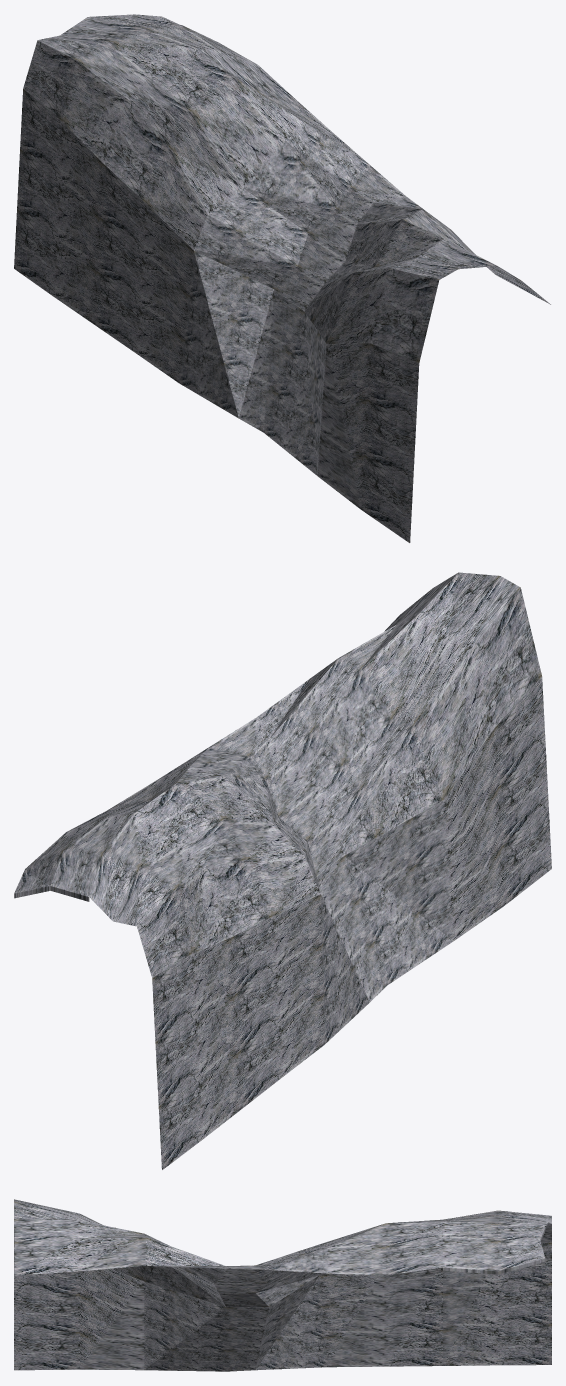
The model's file is vgnorthcoast02b.obj.
The picture shows the model from 3 angles, top to bottom: view 1: azimuth 30°, elevation 25°; view 2: azimuth 150°, elevation 25°; view 3: azimuth 270°, elevation 25°; orthographic projection. The views are drawn at different scales.
Visible parts, largest first — view 1: vgnorthcoast02b; view 2: vgnorthcoast02b; view 3: vgnorthcoast02b.
Part boxes in pixels (x1,y1,x2,y2): vgnorthcoast02b: (14,14,550,542); vgnorthcoast02b: (14,572,551,1169); vgnorthcoast02b: (14,1199,551,1371).
Size of the model in its own units: 69.74 by 103 by 271.
2 materials, 2 textured.
